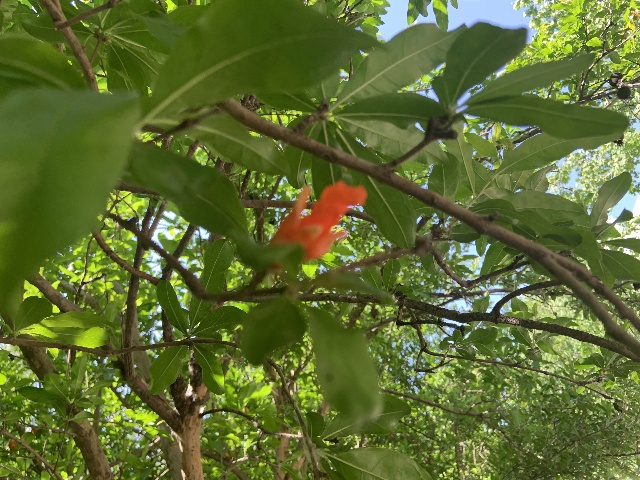flower: (269, 180, 367, 262)
